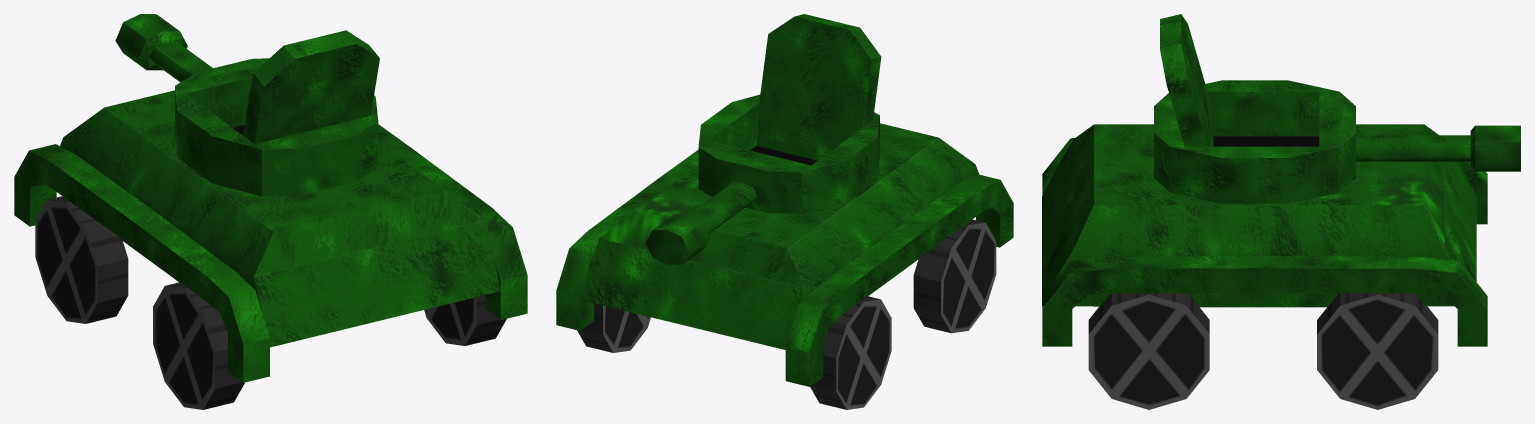
The model's file is tank.fbx.
The picture shows the model from 3 angles, left to right: view 1: azimuth 30°, elevation 25°; view 2: azimuth 150°, elevation 25°; view 3: azimuth 270°, elevation 25°; orthographic projection. The views are drawn at different scales.
Visible parts, largest first — view 1: pCube8; view 2: pCube8; view 3: pCube8.
Part boxes in pixels (left/top/right/bottom): pCube8: left=14, top=14, right=527, bottom=409; pCube8: left=556, top=14, right=1013, bottom=409; pCube8: left=1042, top=14, right=1520, bottom=409.
Size of the model in its own units: 10.92 by 11.46 by 15.91.
1 material, 1 textured.
